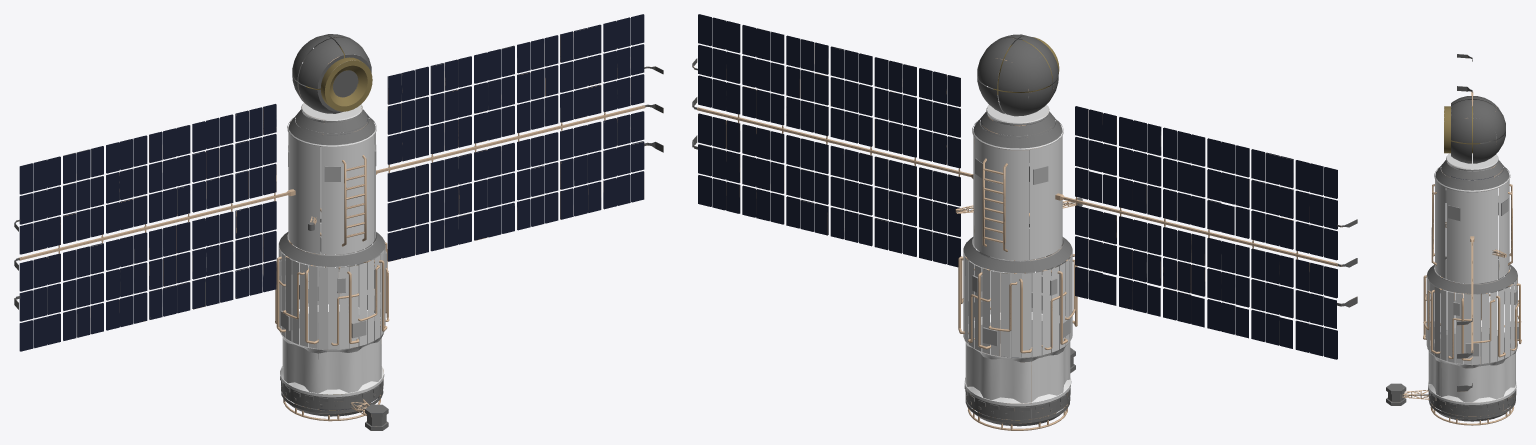
File: satelite.fbx
The picture shows the model from 3 angles, left to right: view 1: azimuth 30°, elevation 25°; view 2: azimuth 150°, elevation 25°; view 3: azimuth 270°, elevation 25°; orthographic projection. The views are drawn at different scales.
Parts seen in each view (by area): view 1: Wing.001; view 2: Wing.001; view 3: Wing.001.
Boxes of the visible parts, x1,y1,x2,y2 form: Wing.001: [14, 14, 663, 430]; Wing.001: [692, 14, 1357, 430]; Wing.001: [1386, 54, 1521, 425].
Size of the model in its own units: 1389 by 752 by 297.
Materials: 1 (1 with a texture image).
